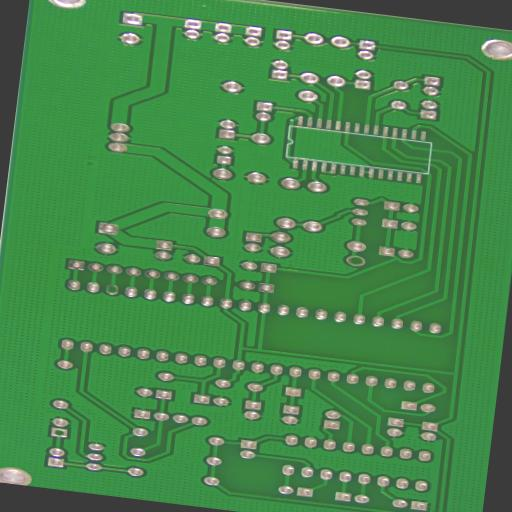missing_hole: (344, 252, 368, 266), (105, 282, 120, 294), (52, 428, 67, 437)
